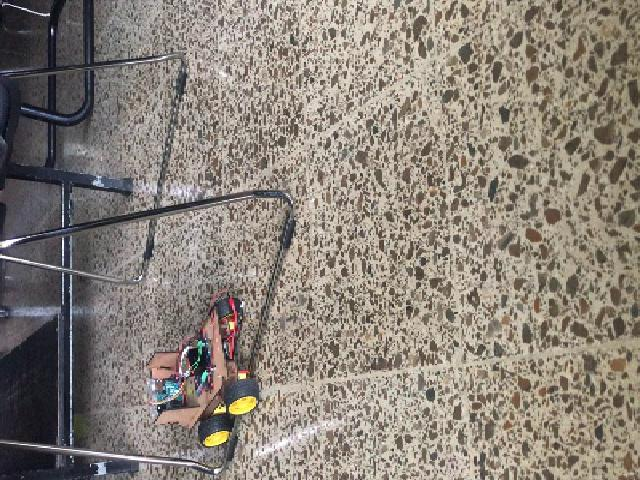Robot: (147, 296, 261, 448)
